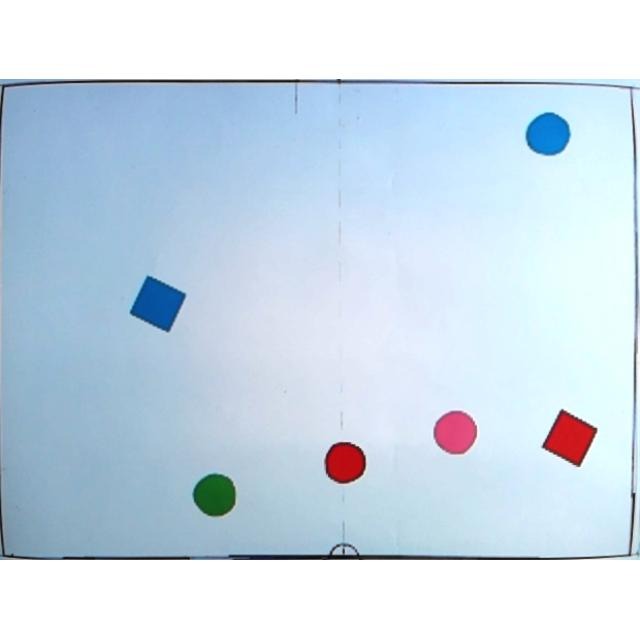blueCircle: (526, 113, 572, 159)
blueSquare: (129, 276, 187, 334)
greenCircle: (193, 474, 237, 518)
pinkCircle: (432, 410, 478, 458)
redCircle: (324, 442, 368, 486)
redSquare: (540, 409, 598, 468)
